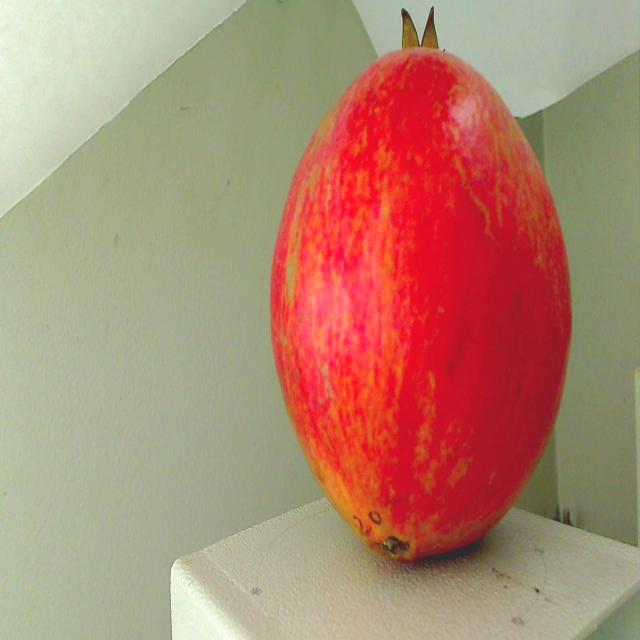pomegranate: (261, 0, 587, 575)
